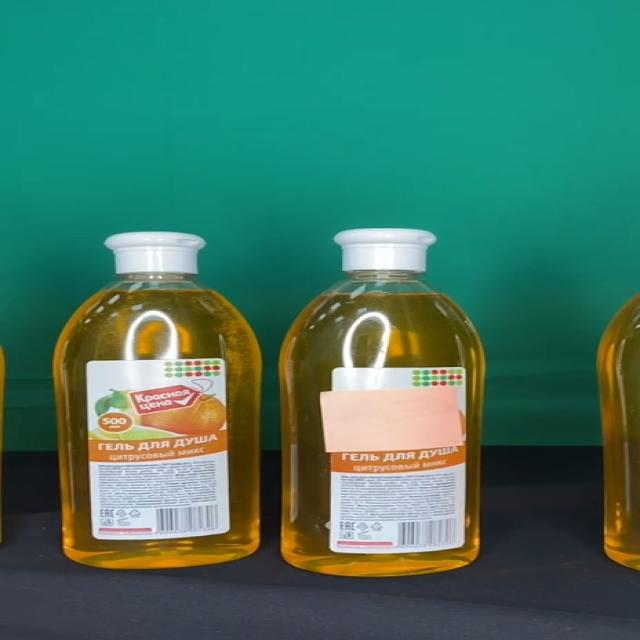Bottle: (277, 228, 486, 577), (54, 233, 263, 569)
Cap: (334, 228, 437, 271), (103, 232, 207, 274)
